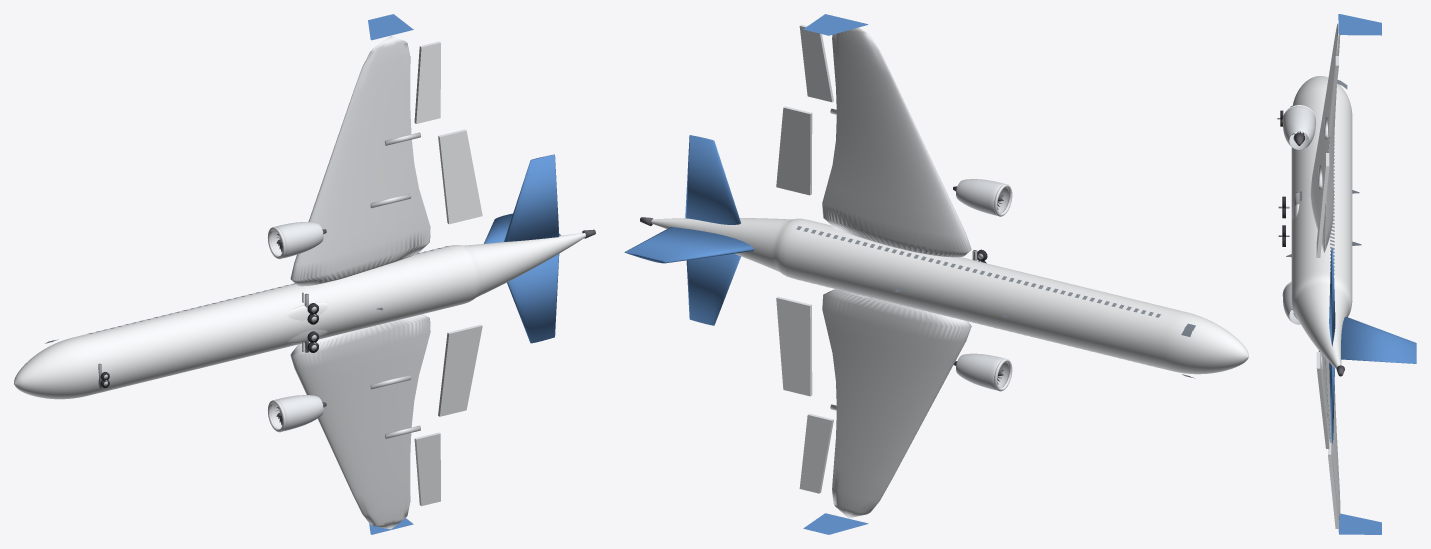
3 renders of one model, left to right at view 1: azimuth 30°, elevation 25°; view 2: azimuth 150°, elevation 25°; view 3: azimuth 270°, elevation 25°, orthographic.
Parts seen in each view (by area): view 1: Fuselage, Wing_R, Wing_L, HStab_R, HStab_L, Flap_R, Flap_L, Aileron_R, Aileron_L, Nacelle_1_0, Nacelle_-1_0, Sharklet_R; view 2: Fuselage, Wing_L, Wing_R, HStab_R, Flap_L, Fin, Flap_R, HStab_L, Aileron_L, Aileron_R, Nacelle_-1_0, Nacelle_1_0 (+3 smaller); view 3: Fuselage, Fin, Wing_R, Nacelle_1_0, Wing_L, Sharklet_R, Sharklet_L, Flap_R, Flap_L, HStab_R, Aileron_L, Aileron_R (+2 smaller).
Part boxes in pixels (x1,y1,x2,y2): Fuselage: (14, 233, 585, 399); Wing_R: (290, 36, 430, 286); Wing_L: (290, 314, 430, 529); HStab_R: (504, 154, 559, 241); HStab_L: (507, 254, 559, 343); Flap_R: (438, 129, 482, 224); Flap_L: (438, 324, 482, 416); Aileron_R: (414, 41, 440, 123); Aileron_L: (414, 432, 440, 506); Nacelle_1_0: (271, 222, 323, 258); Nacelle_-1_0: (271, 395, 323, 431); Sharklet_R: (368, 14, 413, 40); Fuselage: (651, 218, 1248, 374); Wing_L: (822, 289, 971, 518); Wing_R: (822, 27, 971, 257); HStab_R: (685, 135, 740, 224); Flap_L: (776, 296, 812, 396); Fin: (624, 227, 754, 263); Flap_R: (776, 106, 812, 195); HStab_L: (686, 254, 740, 325); Aileron_L: (799, 413, 833, 493); Aileron_R: (799, 24, 833, 102); Nacelle_-1_0: (956, 353, 1008, 390); Nacelle_1_0: (956, 179, 1008, 215); Fuselage: (1291, 76, 1352, 368); Fin: (1341, 316, 1416, 363); Wing_R: (1310, 23, 1340, 252); Nacelle_1_0: (1283, 106, 1315, 149); Wing_L: (1322, 354, 1340, 521); Sharklet_R: (1338, 14, 1381, 35); Sharklet_L: (1338, 513, 1381, 534); Flap_R: (1316, 153, 1329, 257); Flap_L: (1316, 352, 1329, 448); HStab_R: (1329, 248, 1335, 346); Aileron_L: (1328, 442, 1338, 528); Aileron_R: (1328, 56, 1338, 135).
Bounding box in the file's own units: 44.8 × 35.8 × 9.07.
